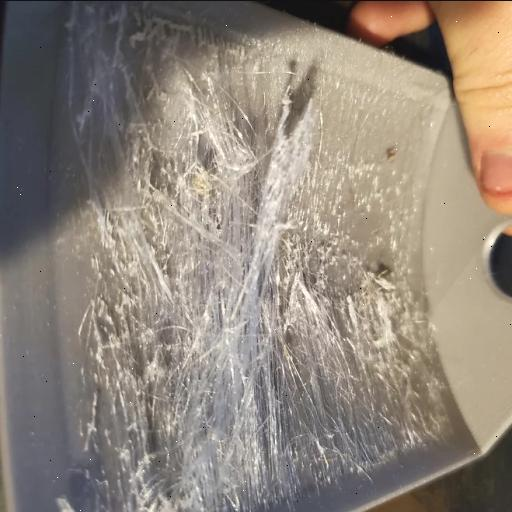stringing: (83, 154, 394, 468)
